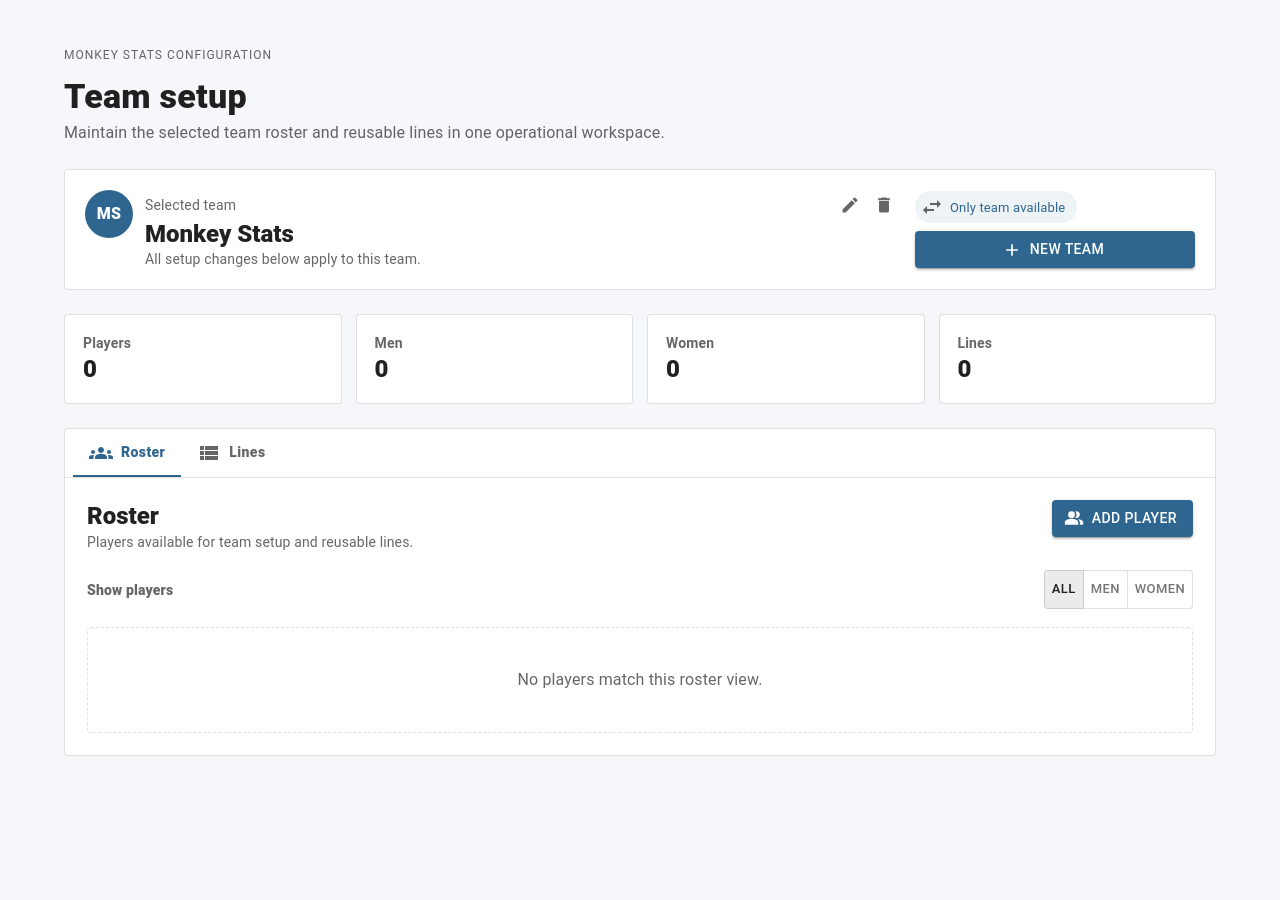
it: TeamSetupPage › selects a newly created team in the workspace
Expected: the heading "Team setup" is shown, [64,76,247,116]
Click the button "New team" at [1055, 250], box [915,232,1195,268]
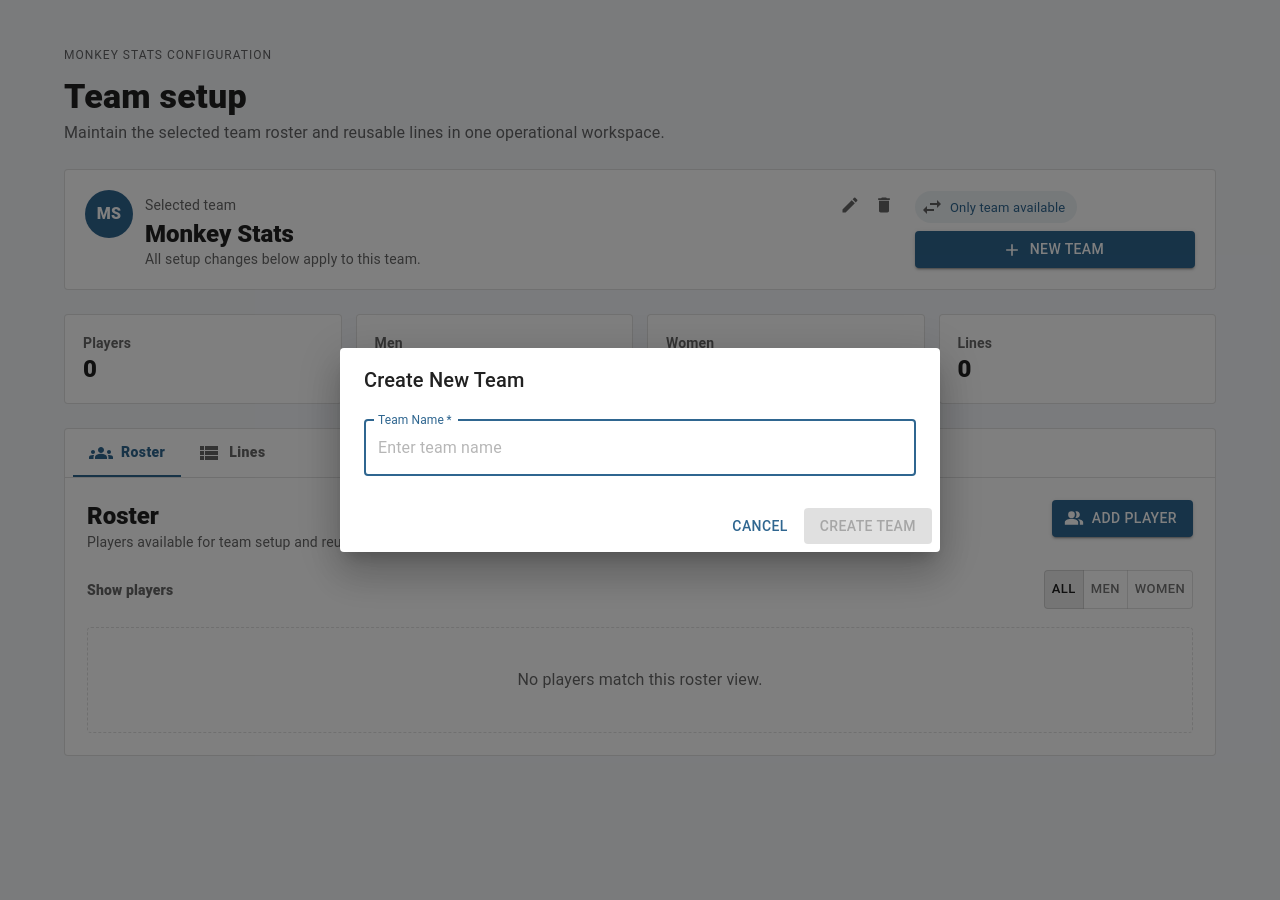
Expected: the heading "Create New Team" is shown, [364,368,524,392]
Type "Falcons" into the field at [640, 448], box [364,420,916,476]
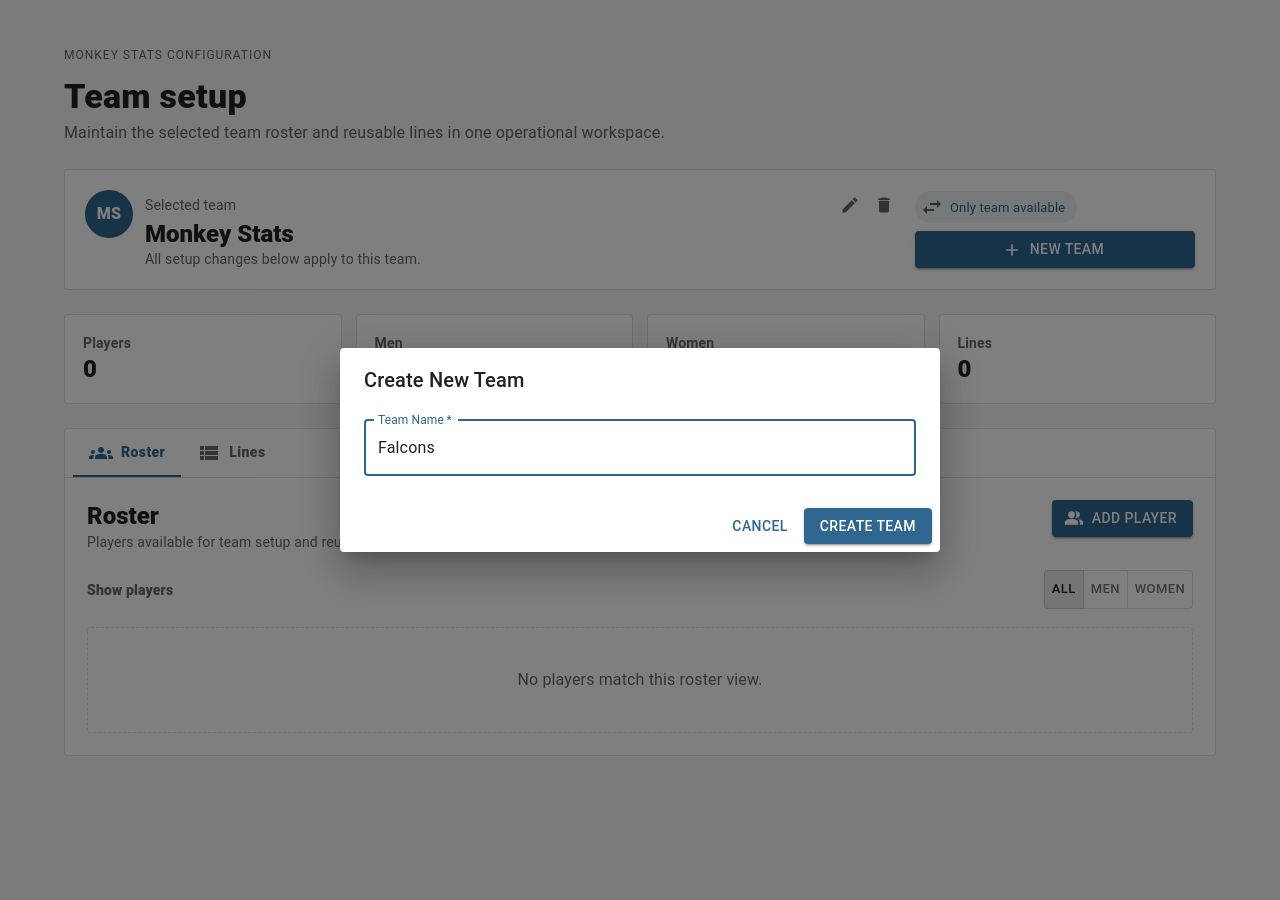
Click the button "Create Team" at [868, 526], box [804,508,932,544]
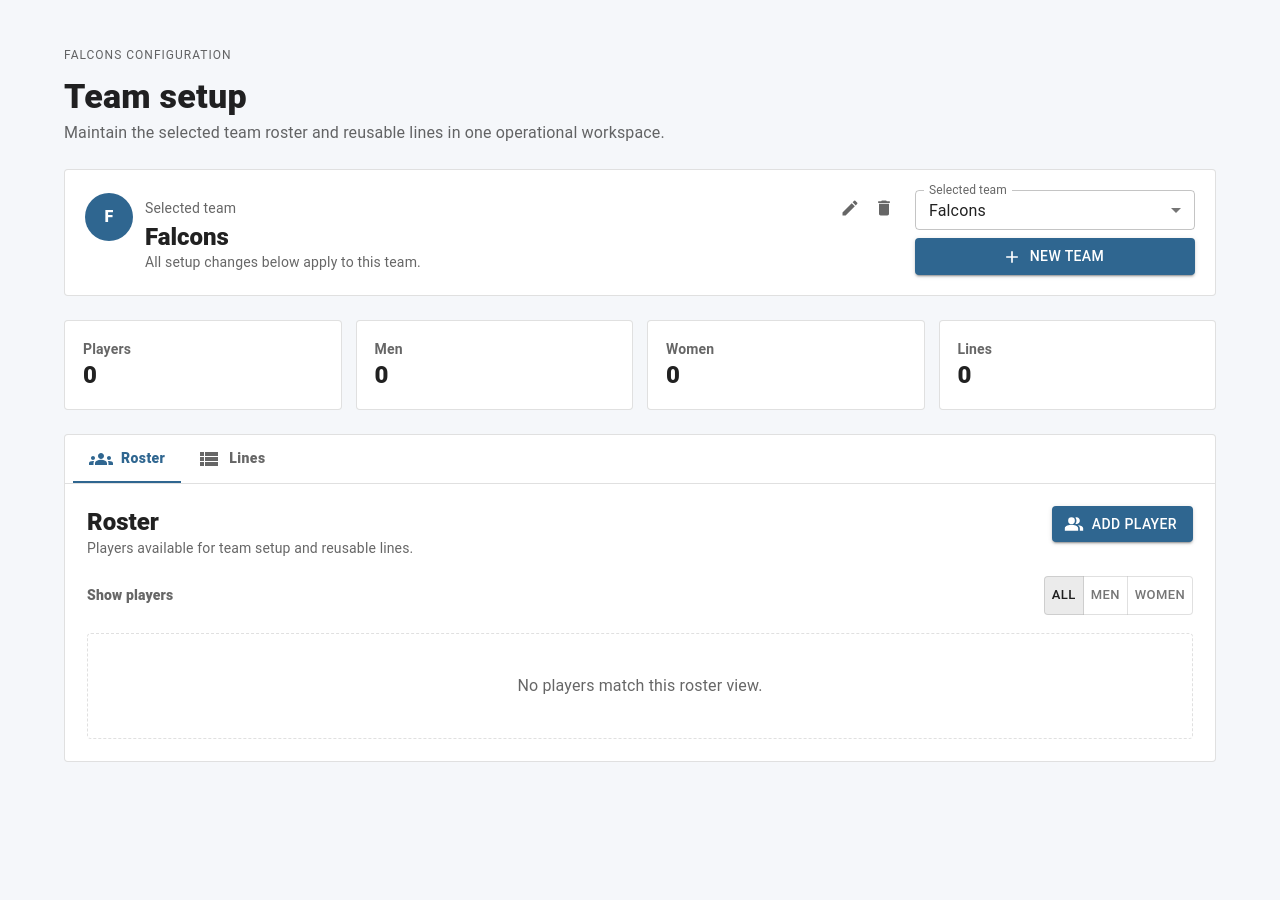
Expected: the text "Falcons configuration" is shown, [64,48,232,62]
